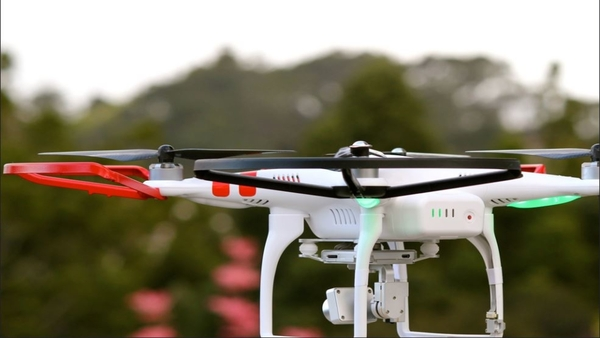drone: (2, 140, 599, 338)
